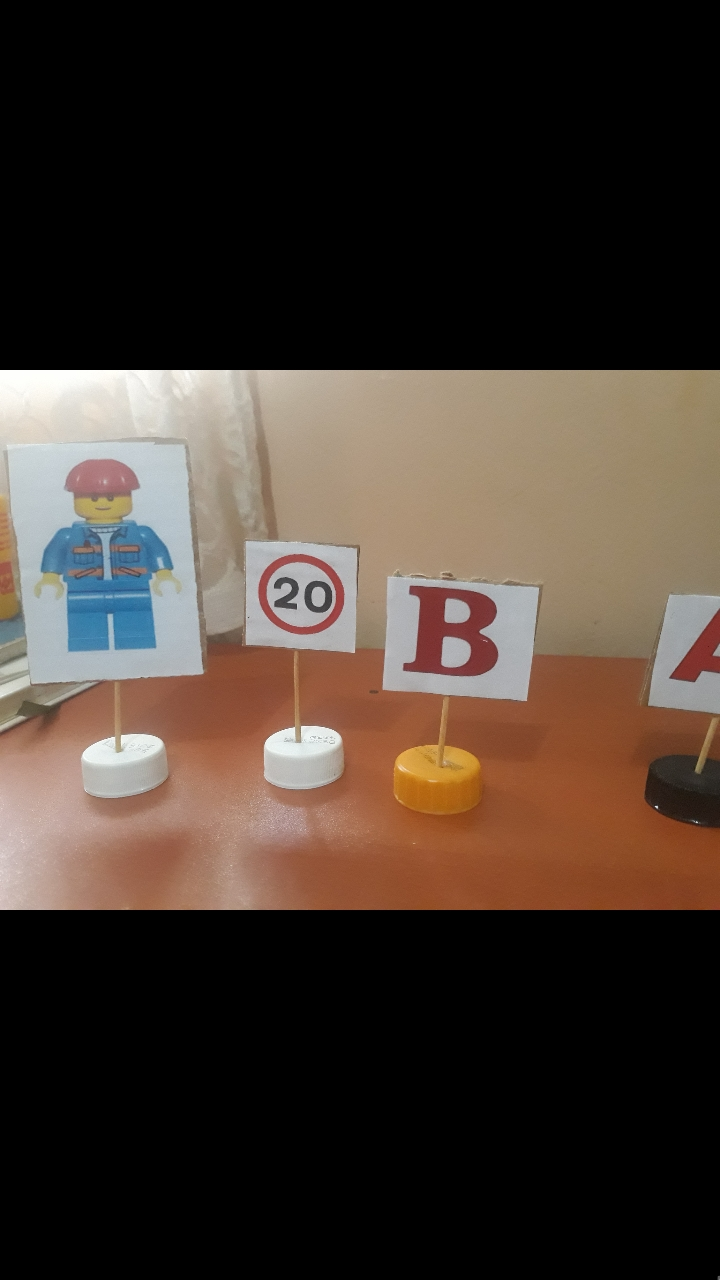20 kph: (246, 541, 355, 655)
pedestrian: (28, 441, 197, 672)
zone B: (391, 576, 526, 698)
